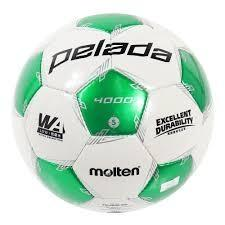Sports-Ball: (12, 12, 212, 216)
